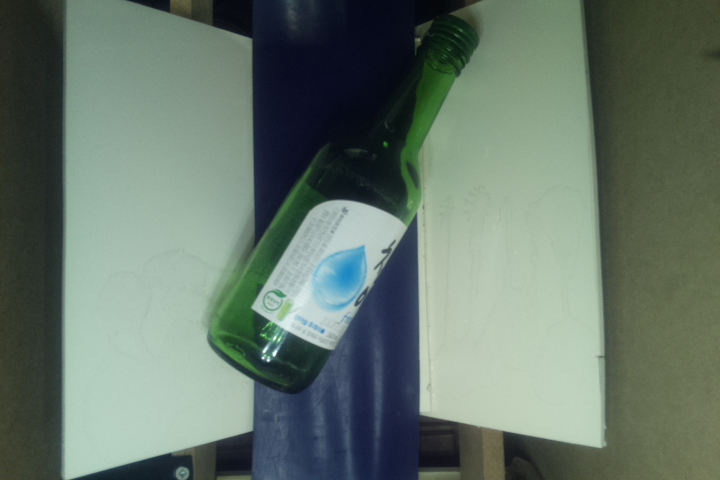soju: (204, 11, 481, 393)
